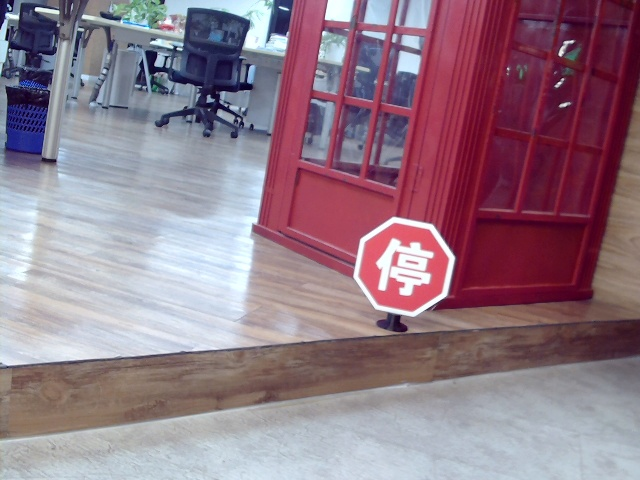stop: (378, 233, 433, 296)
